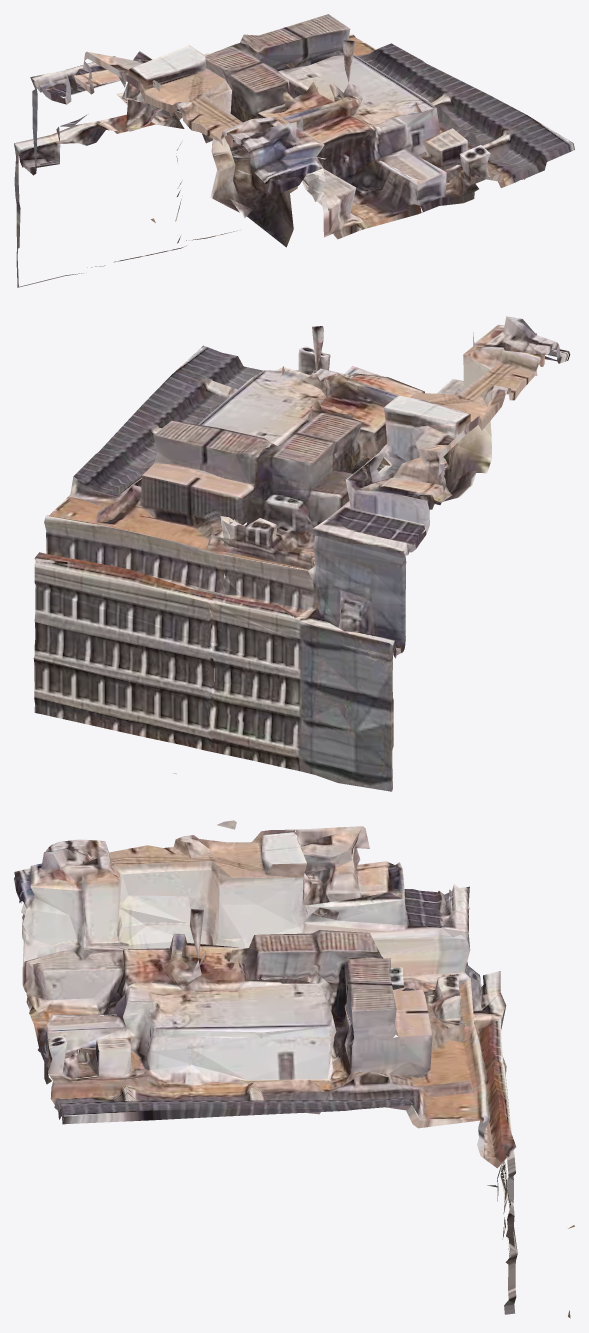
3 renders of one model, top to bottom at view 1: azimuth 30°, elevation 25°; view 2: azimuth 150°, elevation 25°; view 3: azimuth 270°, elevation 25°, orthographic. The views are drawn at different scales.
Parts seen in each view (by area): view 1: Mesh_0; view 2: Mesh_0; view 3: Mesh_0.
Part boxes in pixels (left/top/right/bottom): Mesh_0: left=14, top=14, right=574, bottom=287; Mesh_0: left=33, top=316, right=570, bottom=791; Mesh_0: left=14, top=820, right=574, bottom=1318.
Size of the model in its own units: 32.74 by 25.45 by 38.01.
Materials: 2 (2 with a texture image).
